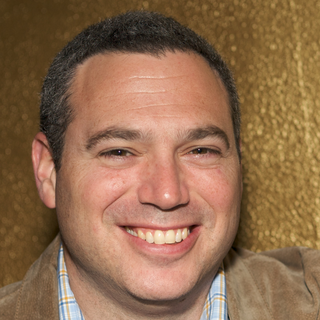eye: (92, 139, 147, 169), (174, 138, 225, 169)
